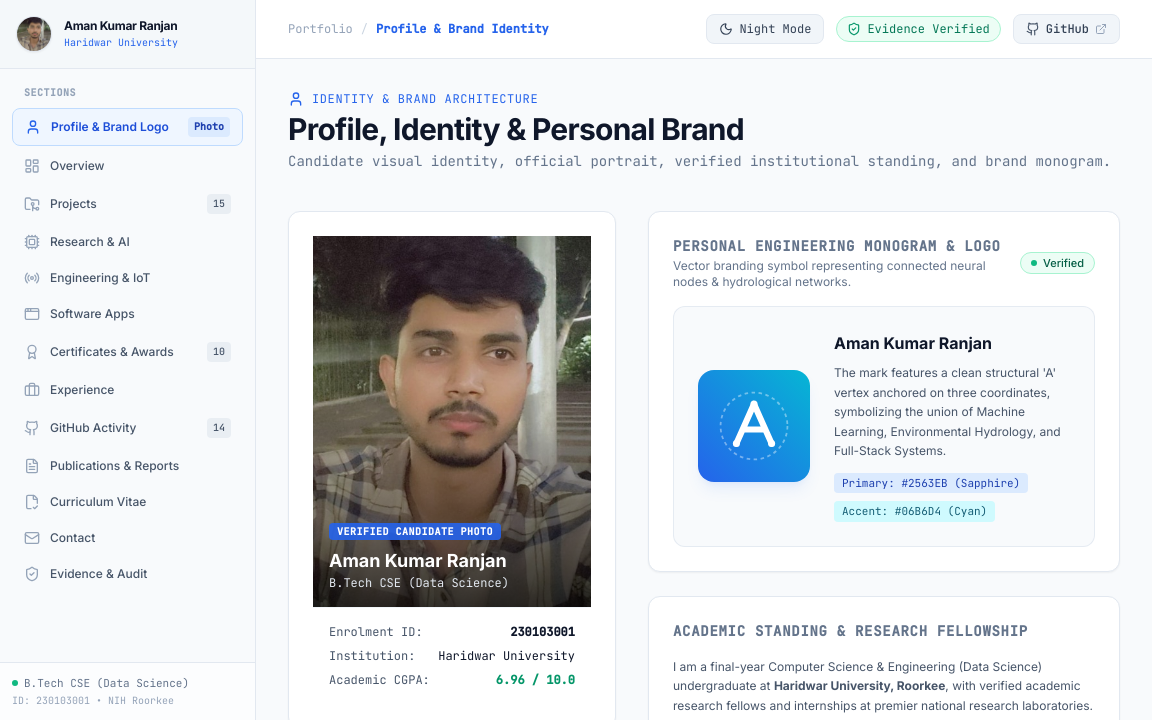
Test: App Layout & Navigation Integration › should open and close project detail modal when project card is clicked
// Navigate to projects view
Click the button "Projects 15".
click(128, 204)  # box [12,186,243,222]
(page scrolled)
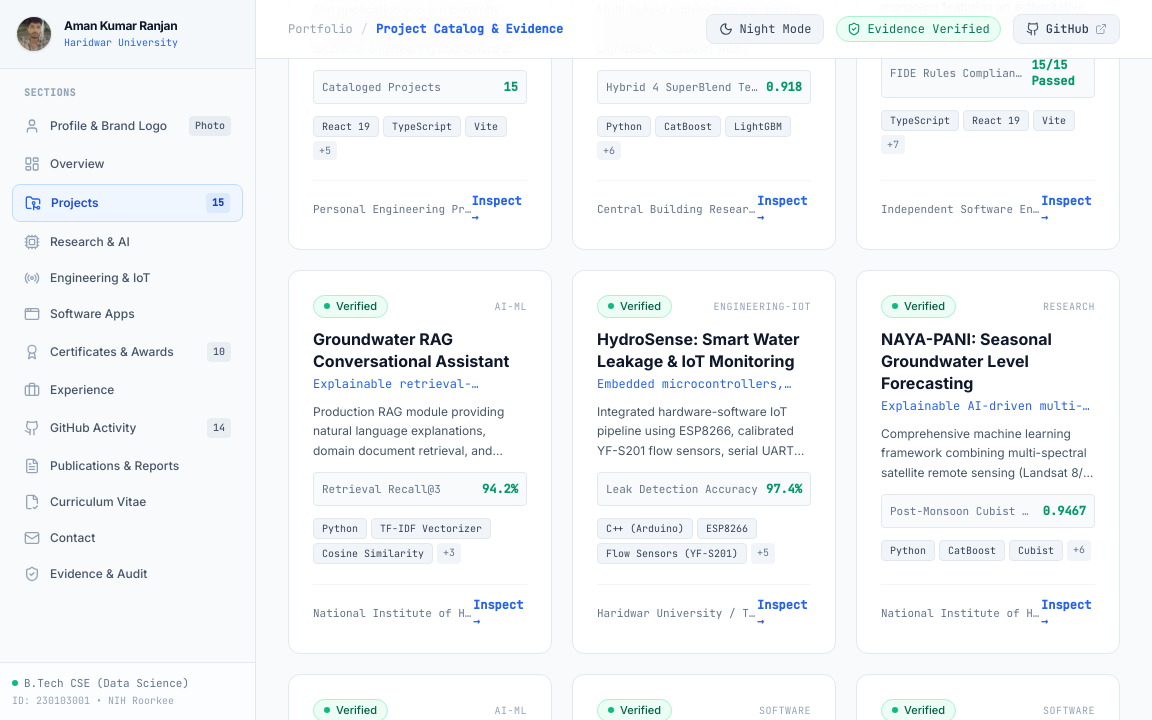
// Click on NAYA-PANI project card
Click the heading "NAYA-PANI: Seasonal Groundwater Level Forecasting".
click(966, 360)  # box [881,328,1052,392]
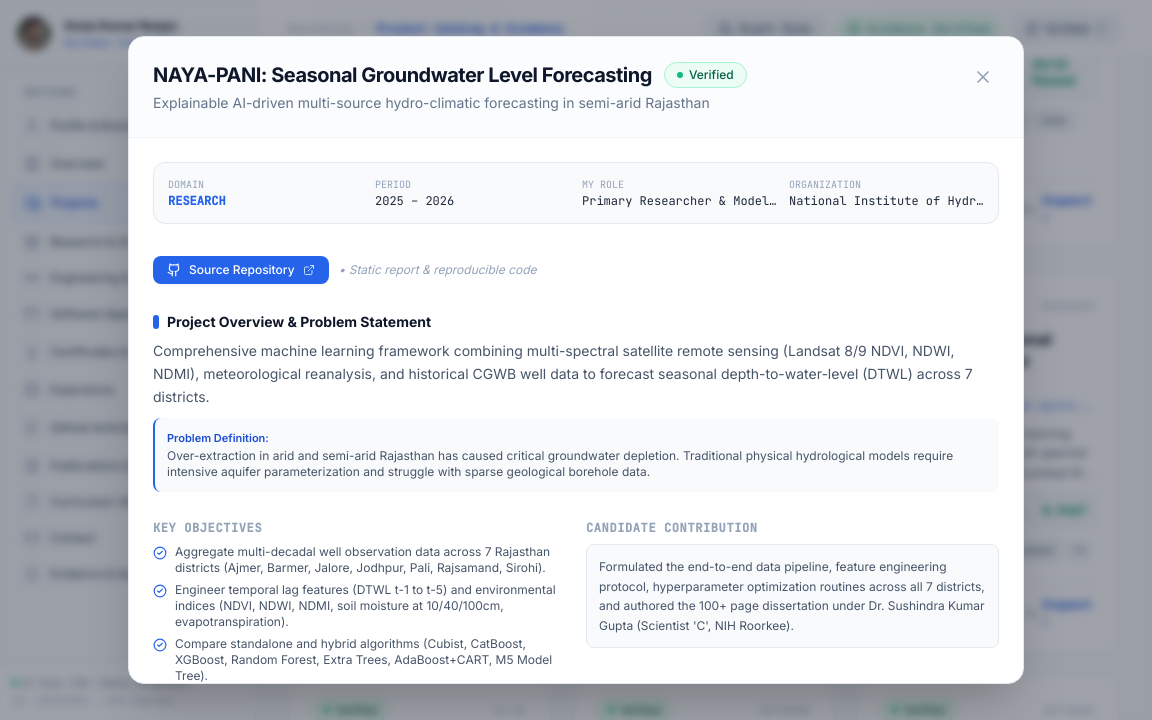
Check: the dialog is shown
Check: the heading "Project Overview & Problem Statement" is shown, box [153,313,431,330]
// Close modal via close button
Click the button named "Close dialog".
click(983, 77)  # box [967,61,999,93]
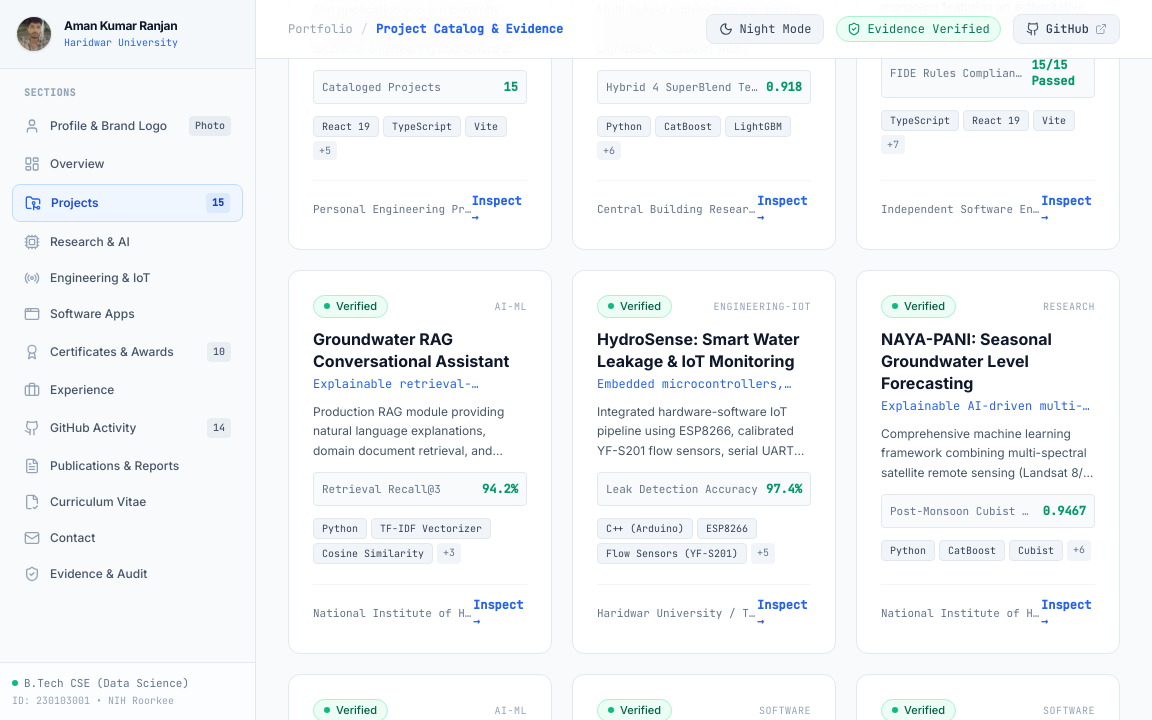
Check: the dialog is gone
